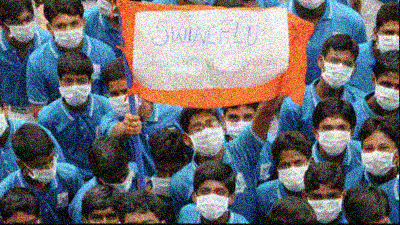with_mask: (189, 117, 224, 157), (359, 140, 396, 177), (109, 84, 143, 121), (58, 75, 93, 109), (308, 189, 343, 223), (196, 183, 228, 220), (278, 155, 309, 192), (322, 53, 354, 88), (319, 121, 350, 157), (52, 17, 85, 48), (224, 110, 255, 143), (26, 153, 57, 184), (373, 77, 399, 111), (7, 13, 35, 43), (103, 168, 134, 195), (376, 26, 399, 53)
